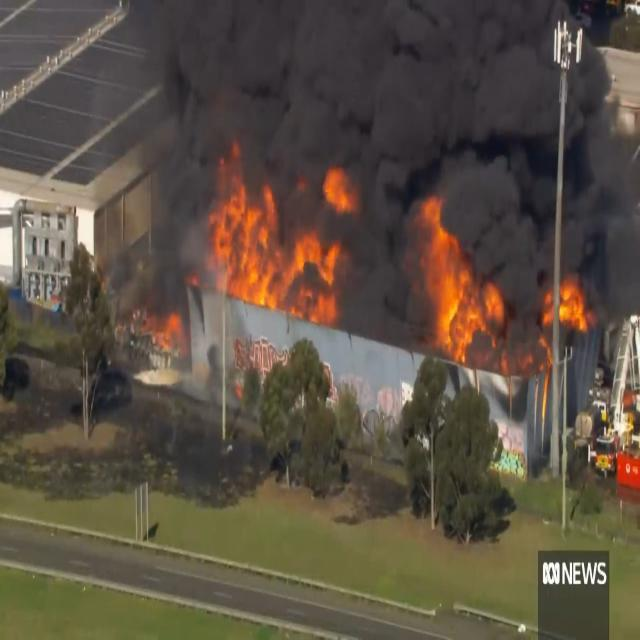fire: (200, 157, 350, 314), (415, 226, 505, 356), (544, 280, 593, 336)
